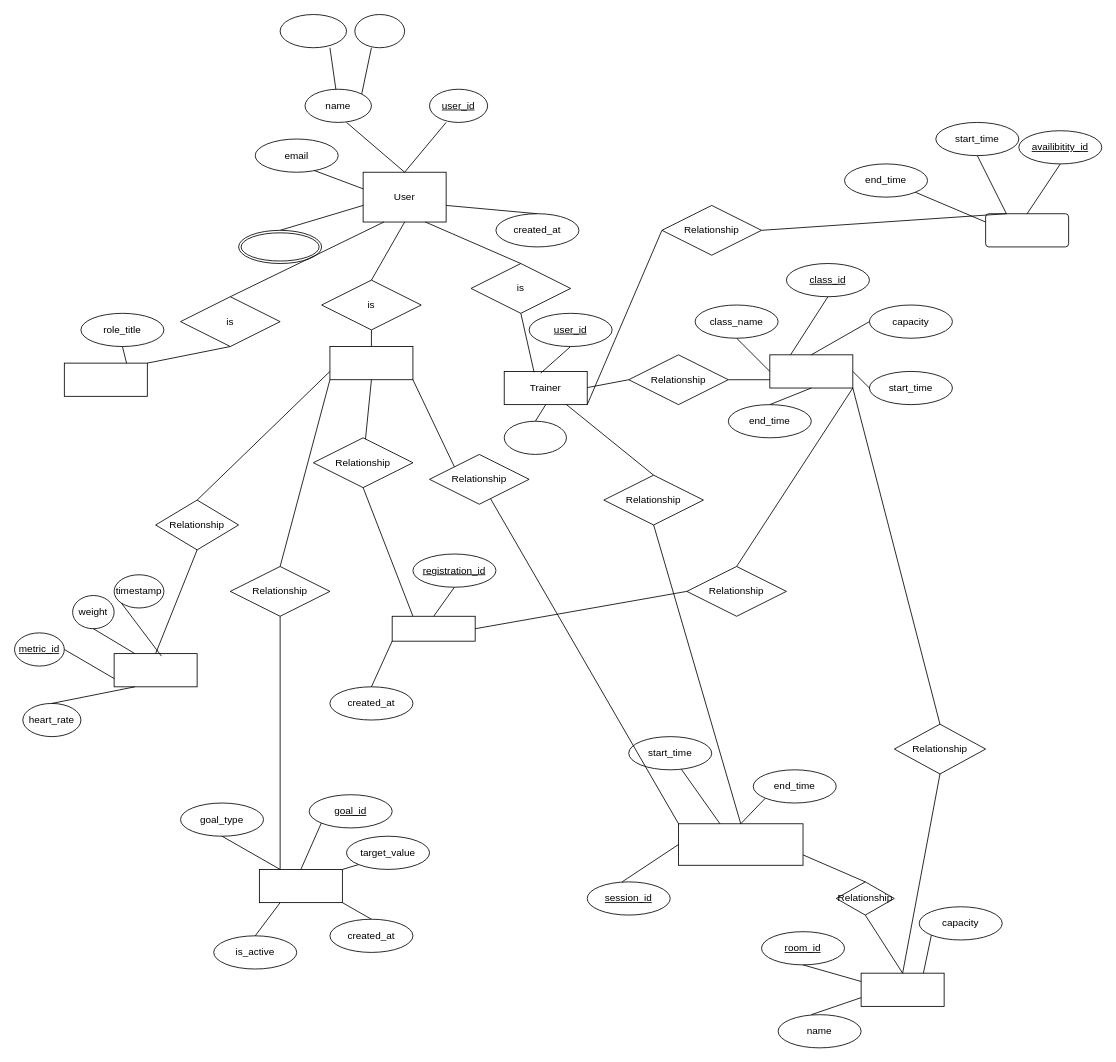
Image size: 1116x1062. Some labels were removed from this diagram. The shapes that lost their labels are listed below. From the top down, each one's centre as x and y in pixels, then its label:
the point at 313,31: last_name
the point at 379,31: first_name
the point at 280,246: phone
the point at 1027,230: TrainingAvailability
the point at 105,379: AdministrativeStaff
the point at 371,363: Member
the point at 811,371: GroupClass
the point at 534,437: specialty
the point at 433,628: ClassRegistration
the point at 155,670: HealthMetric
the point at 740,844: PersonalTrainingSession
the point at 300,886: FitnessGoal
the point at 902,989: Room
